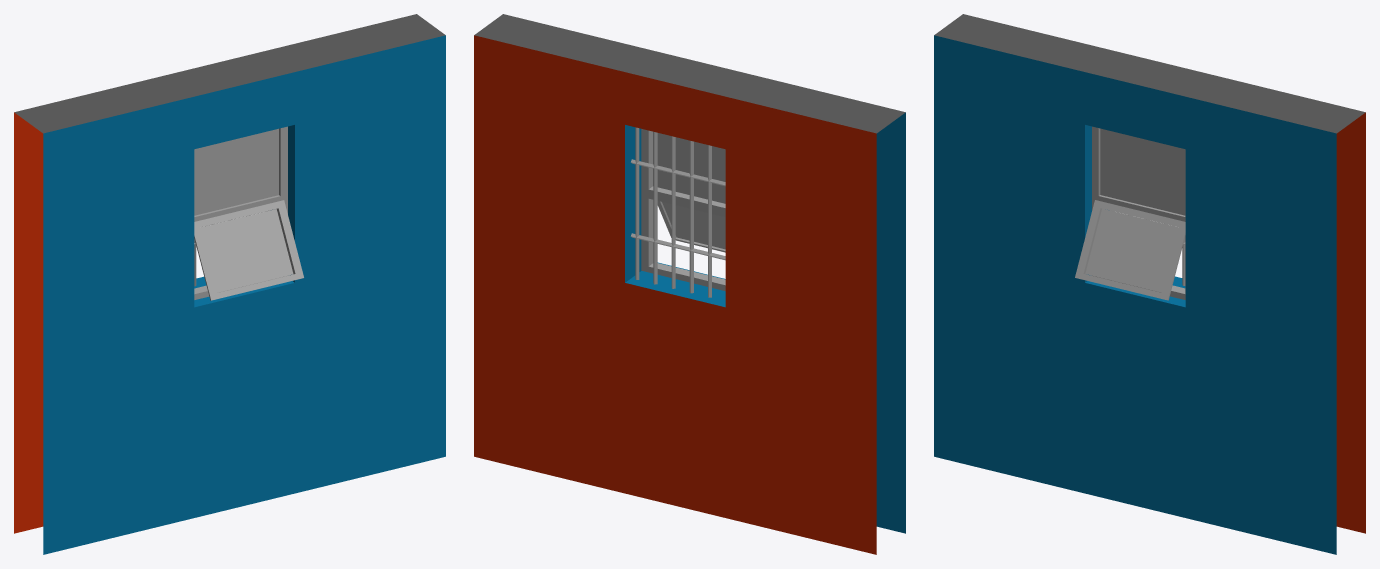
Rendered from Wall_LargeWindow.fbx.
The picture shows the model from 3 angles, left to right: view 1: azimuth 30°, elevation 25°; view 2: azimuth 150°, elevation 25°; view 3: azimuth 330°, elevation 25°; orthographic projection.
Parts seen in each view (by area): view 1: Wall_Normal_Window_4x4, Fixtures:Moveable_big, Fixtures:Fix_big; view 2: Wall_Normal_Window_4x4, Fixtures:Fix_big, Fixtures:Bars_big, Fixtures:Moveable_big; view 3: Wall_Normal_Window_4x4, Fixtures:Moveable_big, Fixtures:Fix_big.
Boxes of the visible parts, <box> form: Wall_Normal_Window_4x4: <box>14,14,445,554</box>; Fixtures:Moveable_big: <box>194,200,303,300</box>; Fixtures:Fix_big: <box>194,126,287,299</box>; Wall_Normal_Window_4x4: <box>474,14,905,554</box>; Fixtures:Fix_big: <box>641,129,725,291</box>; Fixtures:Bars_big: <box>631,127,725,297</box>; Fixtures:Moveable_big: <box>657,201,725,252</box>; Wall_Normal_Window_4x4: <box>934,14,1365,554</box>; Fixtures:Moveable_big: <box>1075,200,1185,300</box>; Fixtures:Fix_big: <box>1092,126,1185,299</box>.
Size of the model in its own units: 4 by 4 by 0.735.
